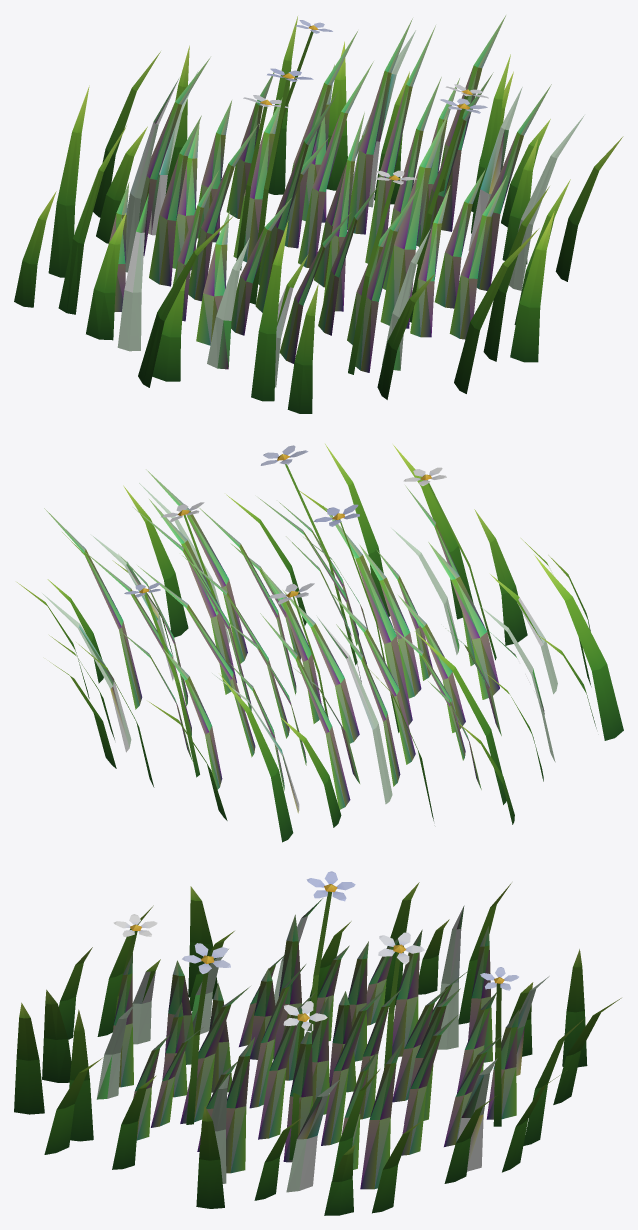
The model's file is botanical_grass_clump.glb.
3 renders of one model, top to bottom at view 1: azimuth 30°, elevation 25°; view 2: azimuth 150°, elevation 25°; view 3: azimuth 270°, elevation 25°, orthographic. The views are drawn at different scales.
Parts seen in each view (by area): view 1: BotanicalGrassClump; view 2: BotanicalGrassClump; view 3: BotanicalGrassClump.
Part boxes in pixels (x1,y1,x2,y2): BotanicalGrassClump: (14, 15, 623, 413); BotanicalGrassClump: (17, 444, 623, 842); BotanicalGrassClump: (14, 871, 621, 1215).
Bounding box in the file's own units: 1.25 × 0.5232 × 1.3.
